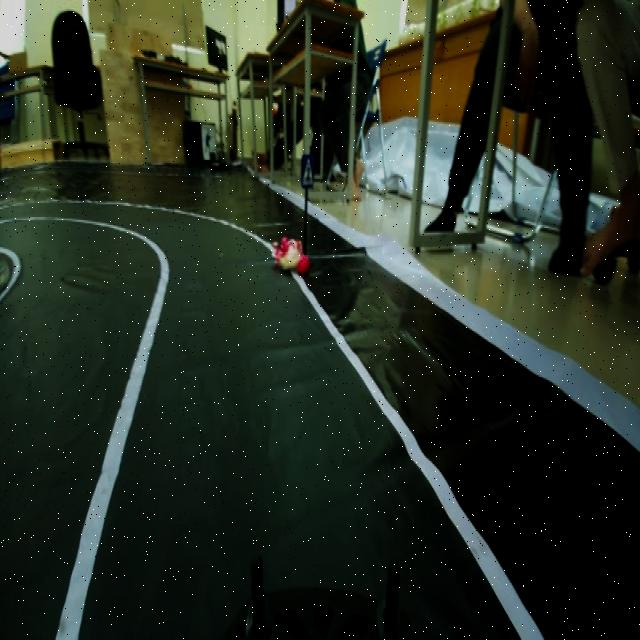crosswalk: (297, 152, 318, 195)
